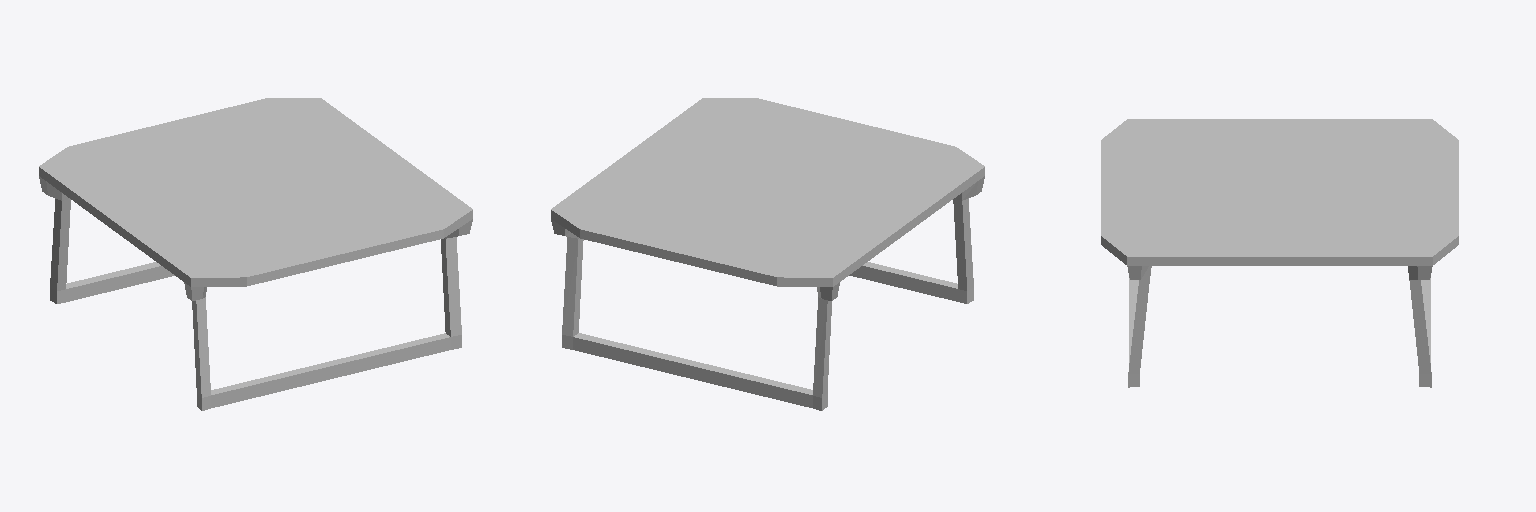
File: Стол 2.obj
The picture shows the model from 3 angles: view 1: azimuth 30°, elevation 25°; view 2: azimuth 150°, elevation 25°; view 3: azimuth 270°, elevation 25°; orthographic projection.
Visible parts, largest first — view 1: Cube; view 2: Cube; view 3: Cube.
Part boxes in pixels (left/top/right/bottom): Cube: left=39, top=98, right=472, bottom=410; Cube: left=551, top=98, right=984, bottom=410; Cube: left=1101, top=119, right=1458, bottom=387.
Size of the model in its own units: 6.4 by 2.95 by 7.02.